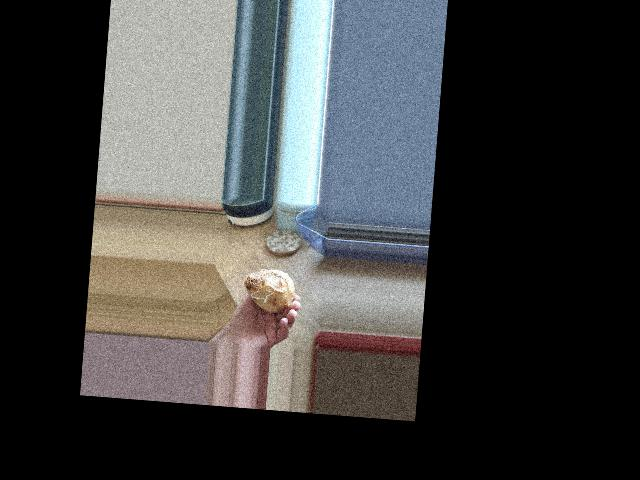onion: (245, 262, 297, 314)
